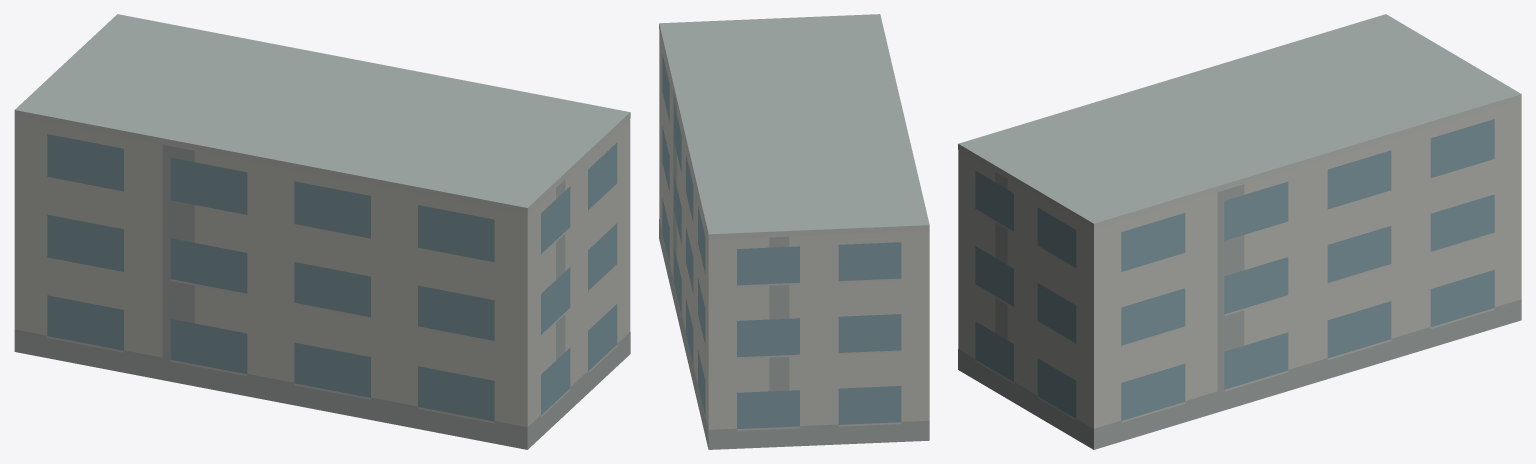
File: residential-a4c8cf97-2379-4154-8f08-e7366c390f0d.glb
3 renders of one model, left to right at view 1: azimuth 30°, elevation 25°; view 2: azimuth 150°, elevation 25°; view 3: azimuth 270°, elevation 25°, orthographic. The views are drawn at different scales.
Visible parts, largest first — view 1: residential-a4c8cf97-2379-4154-8f08-e7366c390f0d.tmp; view 2: residential-a4c8cf97-2379-4154-8f08-e7366c390f0d.tmp; view 3: residential-a4c8cf97-2379-4154-8f08-e7366c390f0d.tmp.
Boxes of the visible parts, bbox=[...] form: residential-a4c8cf97-2379-4154-8f08-e7366c390f0d.tmp: bbox=[14, 14, 630, 449]; residential-a4c8cf97-2379-4154-8f08-e7366c390f0d.tmp: bbox=[659, 14, 929, 449]; residential-a4c8cf97-2379-4154-8f08-e7366c390f0d.tmp: bbox=[958, 14, 1521, 449].
Bounding box in the file's own units: 18.21 × 9.15 × 20.67.
